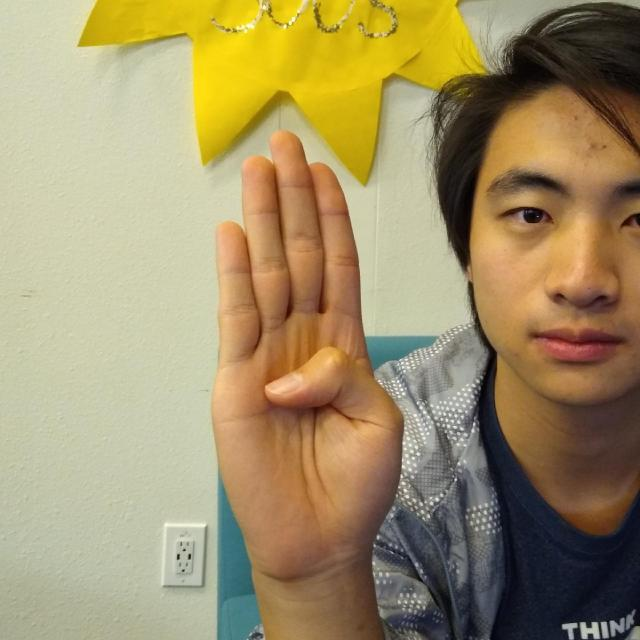B: (169, 69, 446, 592)
